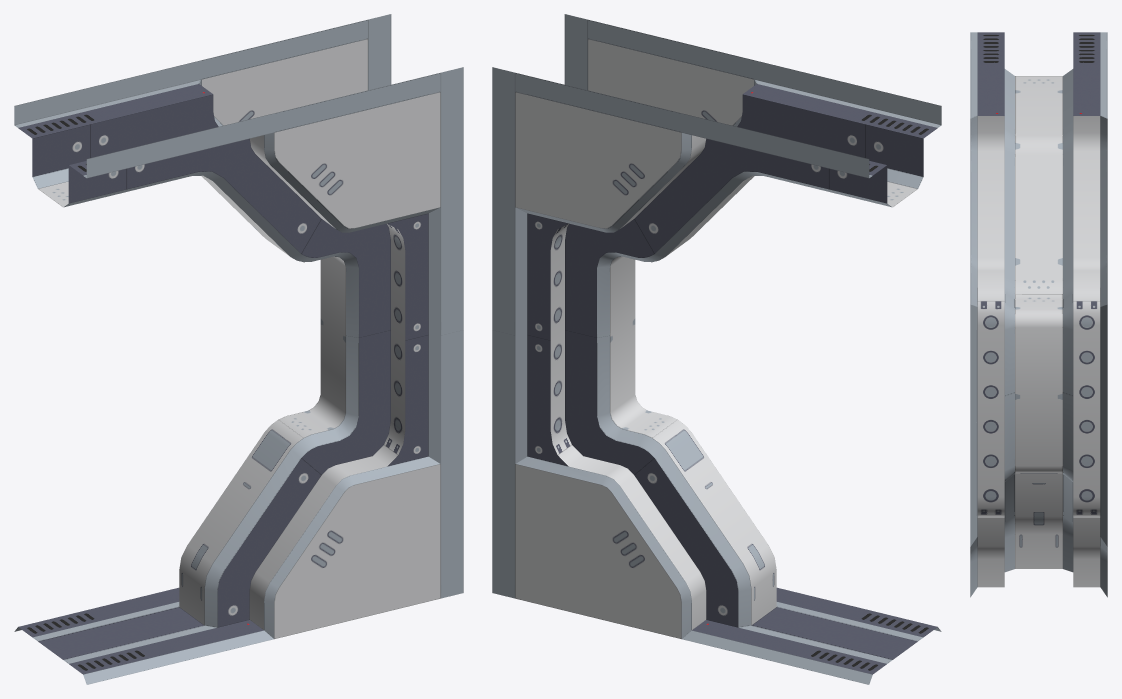
The model's file is Interior_Arch_01.FBX.
The picture shows the model from 3 angles, left to right: view 1: azimuth 30°, elevation 25°; view 2: azimuth 150°, elevation 25°; view 3: azimuth 270°, elevation 25°; orthographic projection. The views are drawn at different scales.
Visible parts, largest first — view 1: Interior_Arch_01; view 2: Interior_Arch_01; view 3: Interior_Arch_01.
Boxes of the visible parts, x1,y1,x2,y2 form: Interior_Arch_01: [14, 14, 463, 684]; Interior_Arch_01: [492, 14, 941, 684]; Interior_Arch_01: [970, 32, 1107, 597].
Size of the model in its own units: 3 by 4 by 1.
3 materials, 3 textured.
